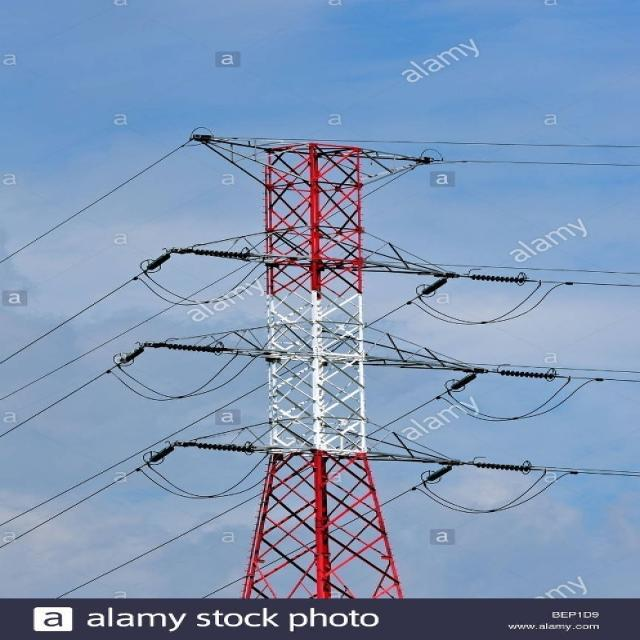non-critical vegetation: (131, 124, 496, 598)
